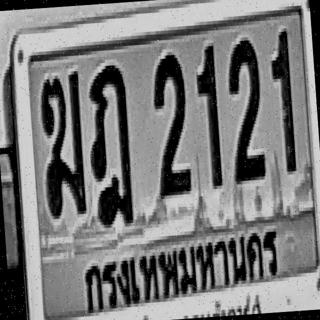A06: (38, 71, 88, 219)
A14: (84, 63, 135, 227)
N01: (193, 42, 223, 190), (268, 30, 296, 174)
N02: (148, 51, 192, 199), (225, 36, 267, 182)
P04: (75, 226, 286, 312)
